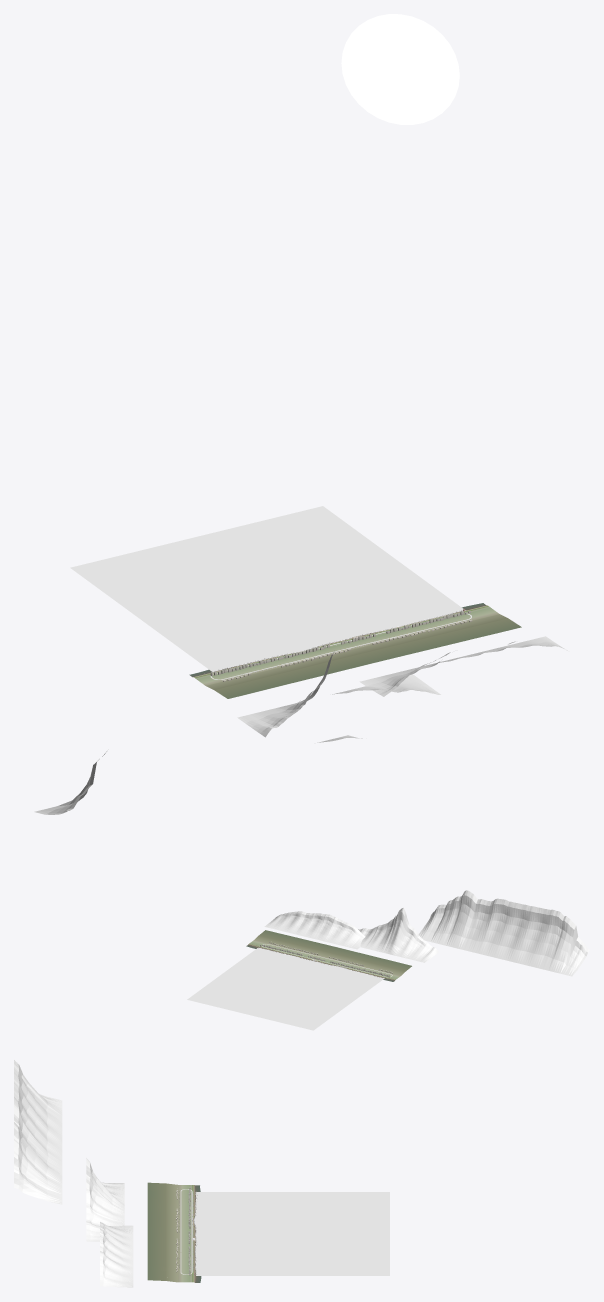
File: seapoint.glb
3 views of the same model, one above another, from view 1: azimuth 30°, elevation 25°; view 2: azimuth 150°, elevation 25°; view 3: azimuth 270°, elevation 25° (orthographic). The views are drawn at different scales.
Visible parts, largest first — view 1: Sun, CapeAtlantic_003, CapeAtlantic_020, CapeAtlantic_021, CapeAtlantic_002, CapeAtlantic_006, CapeAtlantic_007, CapeAtlantic_025, CapeAtlantic_004, CapeAtlantic_023, CapeAtlantic_024, CapeAtlantic_019 (+12 smaller); view 2: TableMountain, LionsHead, SignalHill, CapeAtlantic_003, CapeAtlantic_020, CapeAtlantic_002, CapeAtlantic_021, CapeAtlantic_005, CapeAtlantic_019, CapeAtlantic_006, CapeAtlantic_023, CapeAtlantic_004 (+13 smaller); view 3: TableMountain, CapeAtlantic_020, CapeAtlantic_021, CapeAtlantic_024, CapeAtlantic_001, CapeAtlantic_025, SignalHill, LionsHead, CapeAtlantic_003, CapeAtlantic_006, CapeAtlantic_002, CapeAtlantic_004 (+16 smaller).
Boxes of the visible parts, left/top/right/bottom form: Sun: left=341, top=14, right=459, bottom=124; CapeAtlantic_003: left=151, top=541, right=321, bottom=652; CapeAtlantic_020: left=132, top=545, right=303, bottom=656; CapeAtlantic_021: left=162, top=538, right=333, bottom=650; CapeAtlantic_002: left=121, top=548, right=292, bottom=659; CapeAtlantic_006: left=242, top=519, right=412, bottom=629; CapeAtlantic_007: left=272, top=511, right=442, bottom=622; CapeAtlantic_025: left=283, top=508, right=454, bottom=619; CapeAtlantic_004: left=181, top=533, right=351, bottom=644; CapeAtlantic_023: left=223, top=523, right=393, bottom=634; CapeAtlantic_024: left=253, top=516, right=424, bottom=627; CapeAtlantic_019: left=102, top=553, right=272, bottom=664; TableMountain: left=418, top=890, right=589, bottom=976; LionsHead: left=358, top=908, right=438, bottom=962; SignalHill: left=264, top=911, right=365, bottom=949; CapeAtlantic_003: left=258, top=965, right=344, bottom=1020; CapeAtlantic_020: left=268, top=967, right=352, bottom=1022; CapeAtlantic_002: left=274, top=968, right=358, bottom=1024; CapeAtlantic_021: left=253, top=964, right=338, bottom=1018; CapeAtlantic_005: left=228, top=957, right=313, bottom=1013; CapeAtlantic_019: left=283, top=971, right=368, bottom=1026; CapeAtlantic_006: left=213, top=954, right=298, bottom=1009; CapeAtlantic_023: left=222, top=956, right=307, bottom=1011; CapeAtlantic_004: left=243, top=962, right=328, bottom=1016; TableMountain: left=14, top=1060, right=62, bottom=1204; CapeAtlantic_020: left=194, top=1212, right=389, bottom=1222; CapeAtlantic_021: left=194, top=1222, right=389, bottom=1232; CapeAtlantic_024: left=195, top=1252, right=389, bottom=1262; CapeAtlantic_001: left=195, top=1198, right=389, bottom=1208; CapeAtlantic_025: left=195, top=1262, right=389, bottom=1272; SignalHill: left=100, top=1222, right=133, bottom=1287; LionsHead: left=86, top=1158, right=124, bottom=1241; CapeAtlantic_003: left=195, top=1219, right=389, bottom=1228; CapeAtlantic_006: left=195, top=1249, right=389, bottom=1258; CapeAtlantic_002: left=194, top=1209, right=389, bottom=1218; CapeAtlantic_004: left=196, top=1229, right=389, bottom=1238.
Bounding box in the file's own units: 6124 × 2660 × 5823.
